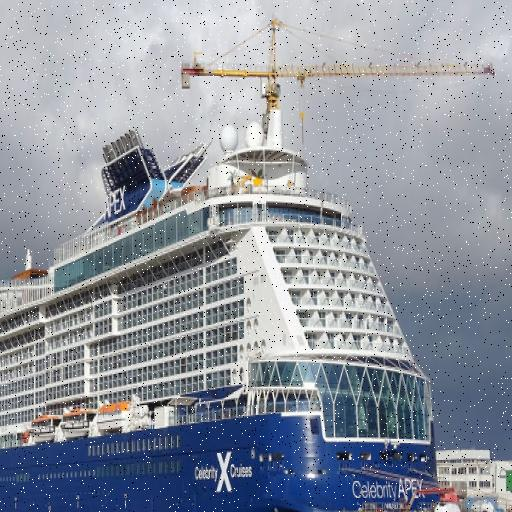cruises: (1, 105, 443, 512)
